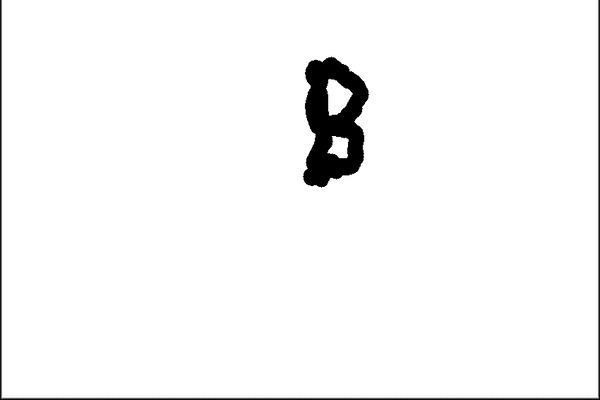B: (294, 48, 375, 202)
